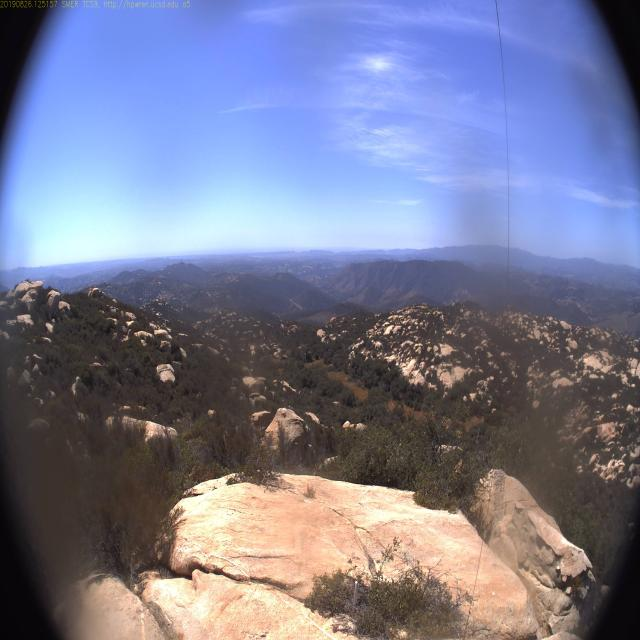smoke: (382, 248, 392, 259)
